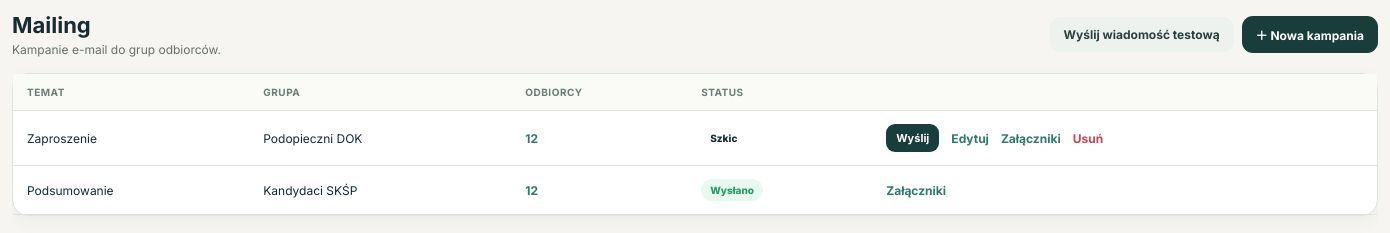
Test: MailingComponent › deleting a draft › deletes the draft after confirmation and reloads the list
The image size is (1390, 233).
What coordinates should you click on to do the following:
click the text "Usuń"
I would click on:
 (1088, 138)
Its box is [1073,130,1103,146].
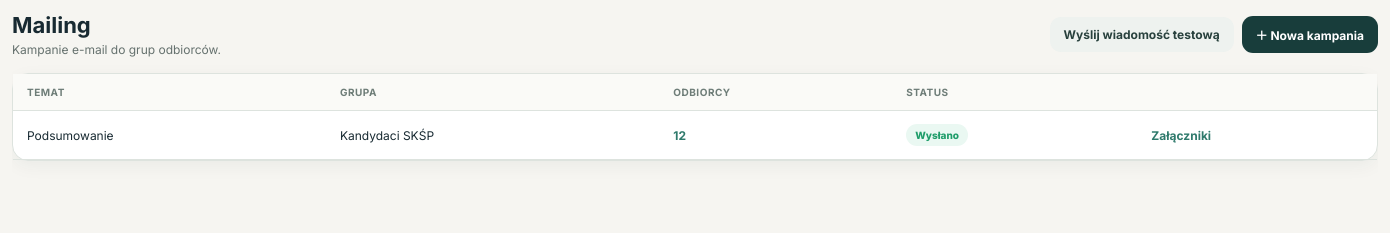
Now the text "Zaproszenie" is gone
